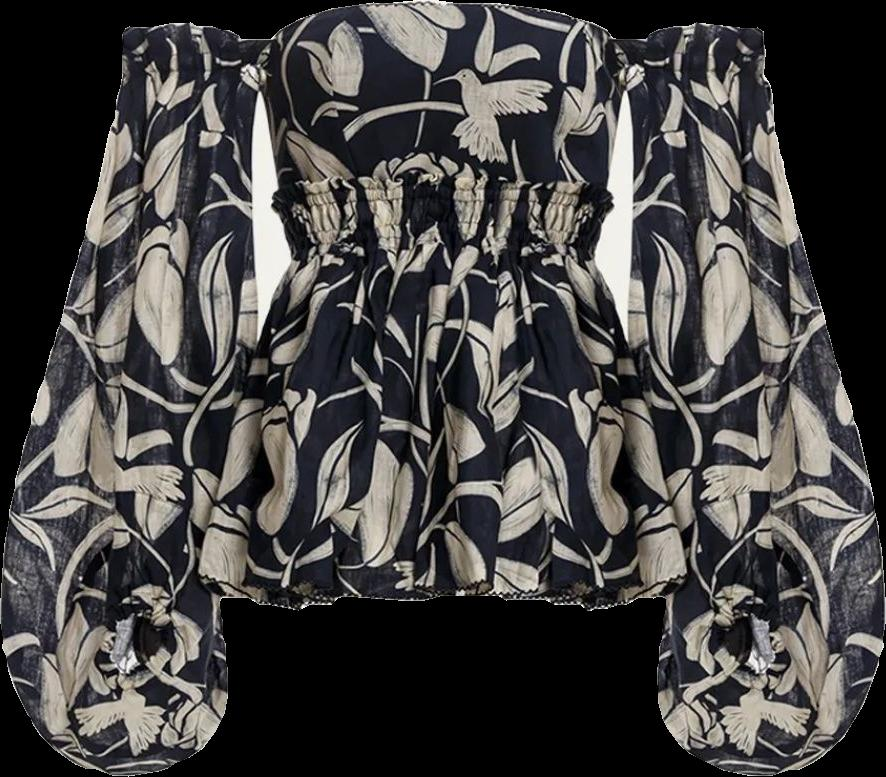Bodice: (198, 1, 687, 609)
Neckline: (265, 0, 624, 52), (292, 241, 596, 264)
Sleeve: (1, 22, 274, 775), (613, 23, 884, 775)
Sleeveline: (123, 18, 271, 83), (613, 18, 765, 81)
Waistline: (195, 563, 690, 611)
